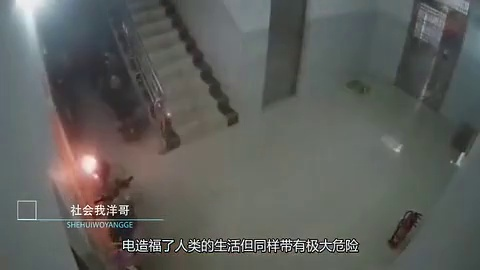fire: (76, 150, 101, 184)
